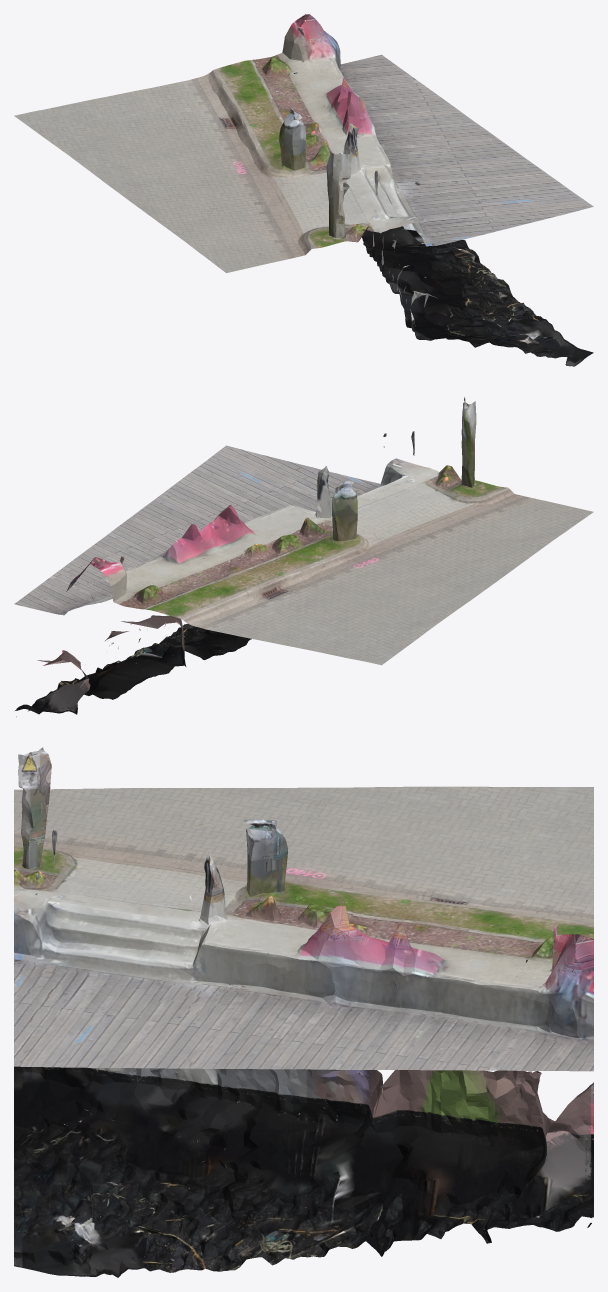
3 renders of one model, top to bottom at view 1: azimuth 30°, elevation 25°; view 2: azimuth 150°, elevation 25°; view 3: azimuth 270°, elevation 25°, orthographic. The views are drawn at different scales.
Size of the model in its own units: 8.36 by 5.77 by 8.36.
5 materials, 5 textured.
